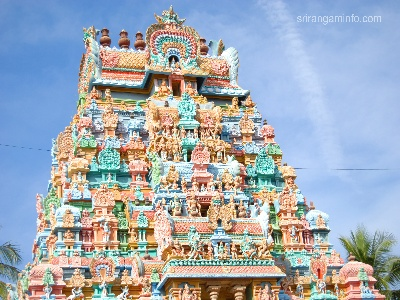gopura: (28, 41, 344, 283)
